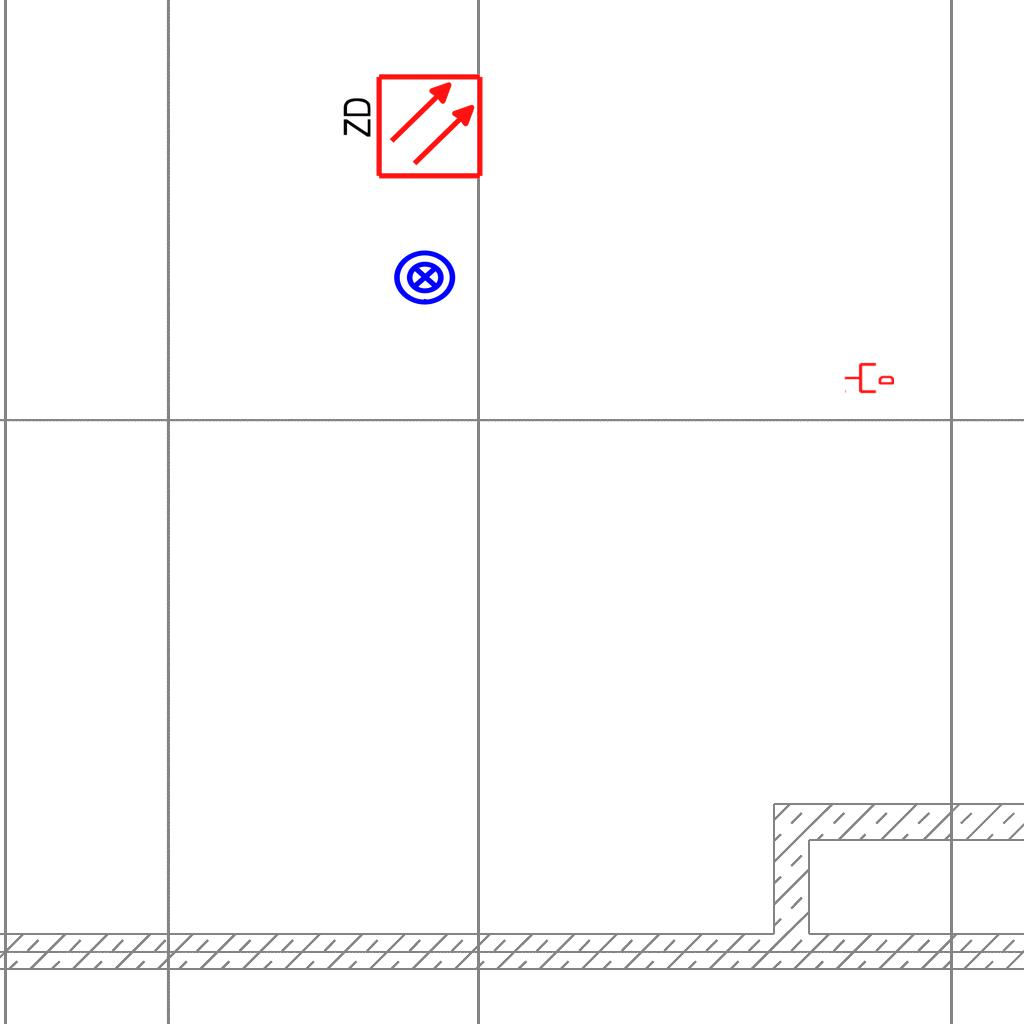Datenanschluss_einfach: (844, 361, 894, 395)
Taster_beleuchtet: (392, 244, 458, 310)
ZD_Melder_in_Zwischendecke_mit_Revisionsoeffnung_mind_40_x_40_cm: (336, 71, 485, 185)
